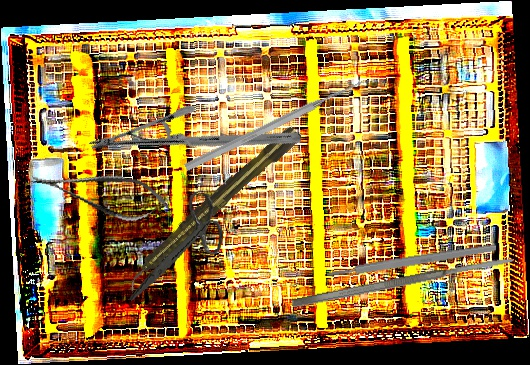Handpiece: (118, 121, 306, 294)
Iris Scissors: (128, 183, 230, 315)
Micro Scissor: (26, 155, 175, 230)
Needle Holder: (87, 45, 303, 237)
Pusher: (183, 76, 365, 174)
Scalpel Handle: (326, 242, 497, 280)
Spatula Surgical: (290, 254, 515, 310)
